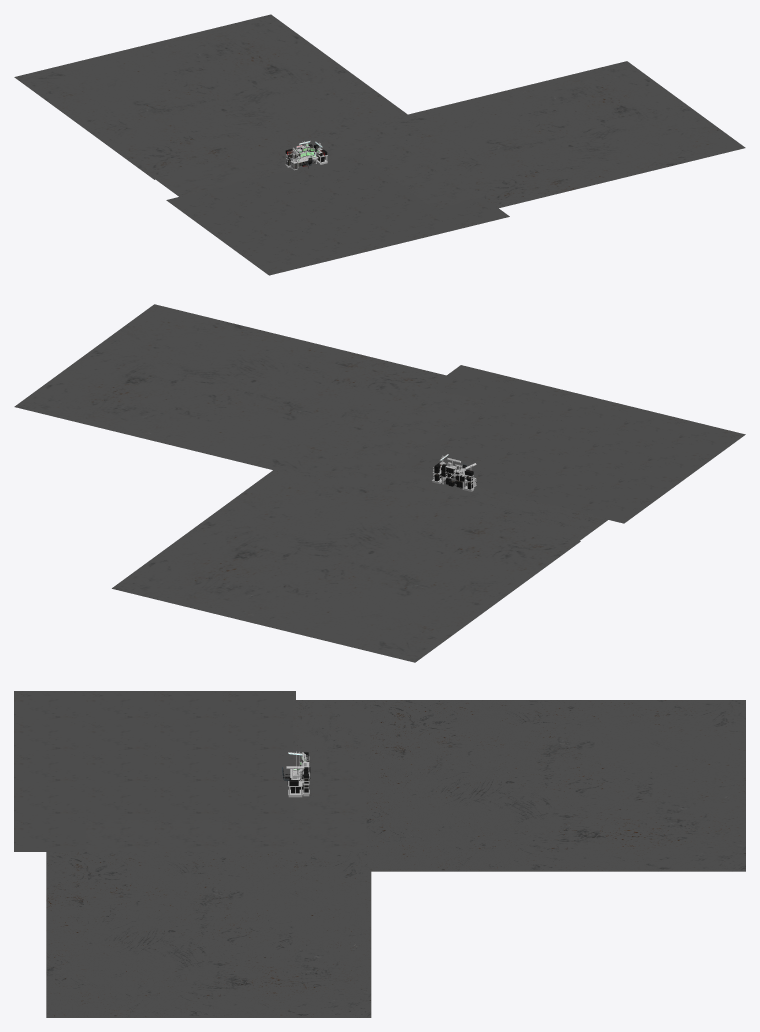
Rendered from Room.gltf.
The picture shows the model from 3 angles, top to bottom: view 1: azimuth 30°, elevation 25°; view 2: azimuth 150°, elevation 25°; view 3: azimuth 270°, elevation 25°; orthographic projection. The views are drawn at different scales.
Visible parts, largest first — view 1: pPlane1_Ground1_0.040, pPlane1_Ground1_0.042, pPlane1_Ground1_0.028, pPlane1_Ground1_0.008, pPlane1_Ground1_0.003, pPlane1_Ground1_0.016, pPlane1_Ground1_0.013, pPlane1_Ground1_0.009, pPlane1_Ground1_0.011, pPlane1_Ground1_0.021, pPlane1_Ground1_0.010, pPlane1_Ground1_0.017 (+14 smaller); view 2: pPlane1_Ground1_0.040, pPlane1_Ground1_0.042, pPlane1_Ground1_0.028, pPlane1_Ground1_0.009, pPlane1_Ground1_0.016, pPlane1_Ground1_0.003, pPlane1_Ground1_0.008, pPlane1_Ground1_0.018, pPlane1_Ground1_0.011, pPlane1_Ground1_0.022, pPlane1_Ground1_0.017, pPlane1_Ground1_0.005 (+14 smaller); view 3: pPlane1_Ground1_0.040, pPlane1_Ground1_0.042, pPlane1_Ground1_0.028, pPlane1_Ground1_0.017, pPlane1_Ground1_0.018, pPlane1_Ground1_0.009, pPlane1_Ground1_0.003, pPlane1_Ground1_0.019, pPlane1_Ground1_0.014, pPlane1_Ground1_0.010, pPlane1_Ground1_0.016, pPlane1_Ground1_0.011 (+14 smaller).
Part boxes in pixels (left/top/right/bottom): pPlane1_Ground1_0.040: left=14, top=14, right=407, bottom=179; pPlane1_Ground1_0.042: left=378, top=61, right=745, bottom=207; pPlane1_Ground1_0.028: left=152, top=155, right=267, bottom=197; pPlane1_Ground1_0.008: left=434, top=197, right=509, bottom=228; pPlane1_Ground1_0.003: left=332, top=122, right=407, bottom=153; pPlane1_Ground1_0.016: left=337, top=221, right=412, bottom=252; pPlane1_Ground1_0.013: left=261, top=165, right=336, bottom=196; pPlane1_Ground1_0.009: left=386, top=209, right=460, bottom=240; pPlane1_Ground1_0.011: left=334, top=171, right=409, bottom=201; pPlane1_Ground1_0.021: left=166, top=189, right=241, bottom=219; pPlane1_Ground1_0.010: left=359, top=189, right=434, bottom=220; pPlane1_Ground1_0.017: left=289, top=233, right=362, bottom=263; pPlane1_Ground1_0.040: left=112, top=470, right=580, bottom=662; pPlane1_Ground1_0.042: left=14, top=304, right=446, bottom=478; pPlane1_Ground1_0.028: left=472, top=493, right=609, bottom=543; pPlane1_Ground1_0.009: left=487, top=379, right=575, bottom=416; pPlane1_Ground1_0.016: left=545, top=393, right=633, bottom=429; pPlane1_Ground1_0.003: left=309, top=454, right=398, bottom=490; pPlane1_Ground1_0.008: left=429, top=365, right=518, bottom=401; pPlane1_Ground1_0.018: left=572, top=429, right=655, bottom=466; pPlane1_Ground1_0.011: left=429, top=423, right=514, bottom=460; pPlane1_Ground1_0.022: left=595, top=465, right=682, bottom=502; pPlane1_Ground1_0.017: left=603, top=407, right=690, bottom=442; pPlane1_Ground1_0.005: left=339, top=433, right=428, bottom=466; pPlane1_Ground1_0.040: left=366, top=700, right=745, bottom=871; pPlane1_Ground1_0.042: left=46, top=851, right=371, bottom=1017; pPlane1_Ground1_0.028: left=293, top=700, right=370, bottom=759; pPlane1_Ground1_0.017: left=14, top=722, right=87, bottom=755; pPlane1_Ground1_0.018: left=86, top=722, right=159, bottom=755; pPlane1_Ground1_0.009: left=14, top=787, right=87, bottom=819; pPlane1_Ground1_0.003: left=293, top=819, right=366, bottom=851; pPlane1_Ground1_0.019: left=154, top=722, right=228, bottom=755; pPlane1_Ground1_0.014: left=154, top=754, right=228, bottom=786; pPlane1_Ground1_0.010: left=86, top=787, right=159, bottom=819; pPlane1_Ground1_0.016: left=14, top=754, right=87, bottom=786; pPlane1_Ground1_0.011: left=154, top=787, right=228, bottom=819.
Size of the model in its own units: 8.15 by 0.3647 by 7.73.
